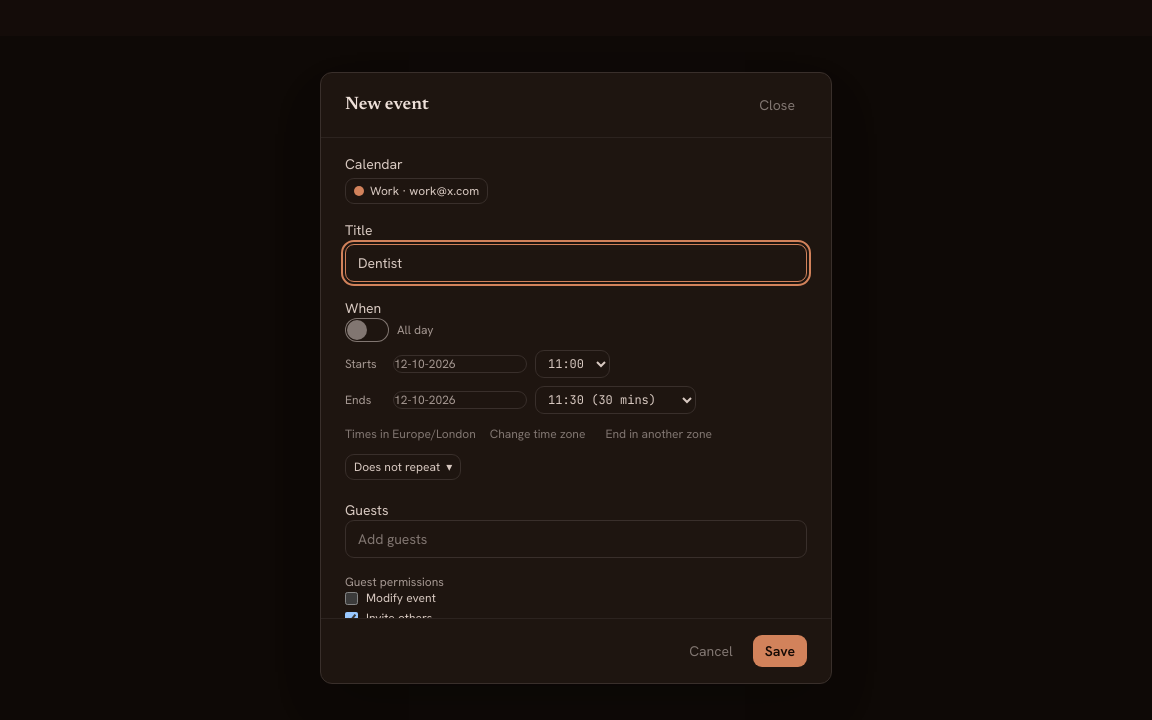
Test: NewEventEditor › More options from quick create keeps the title, time and calendar
Expected: the field labelled "Title" holds "Dentist", [345,244,807,282]
Expected: the dropdown named "Start time" shows "11:00", [535,350,610,378]
Click the button with aria-label "Calendar: Work" at (417, 191), box [345,178,488,204]
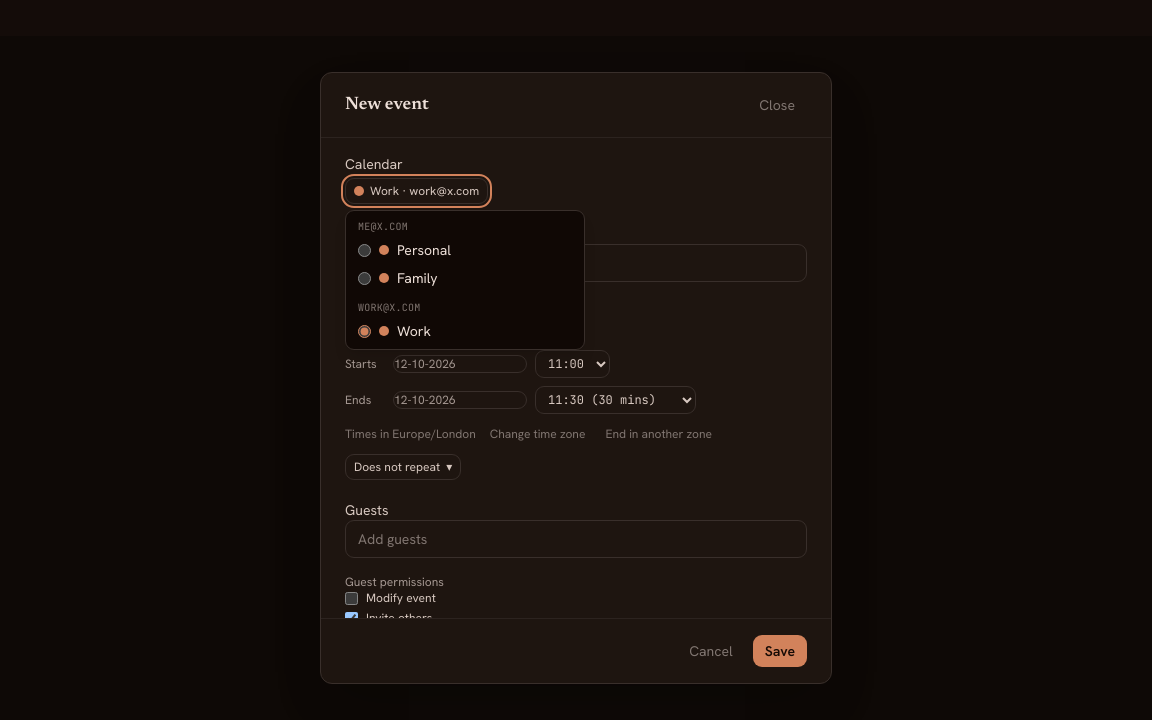
Click the radio button labelled "Personal" at (364, 250), box [358,244,371,256]
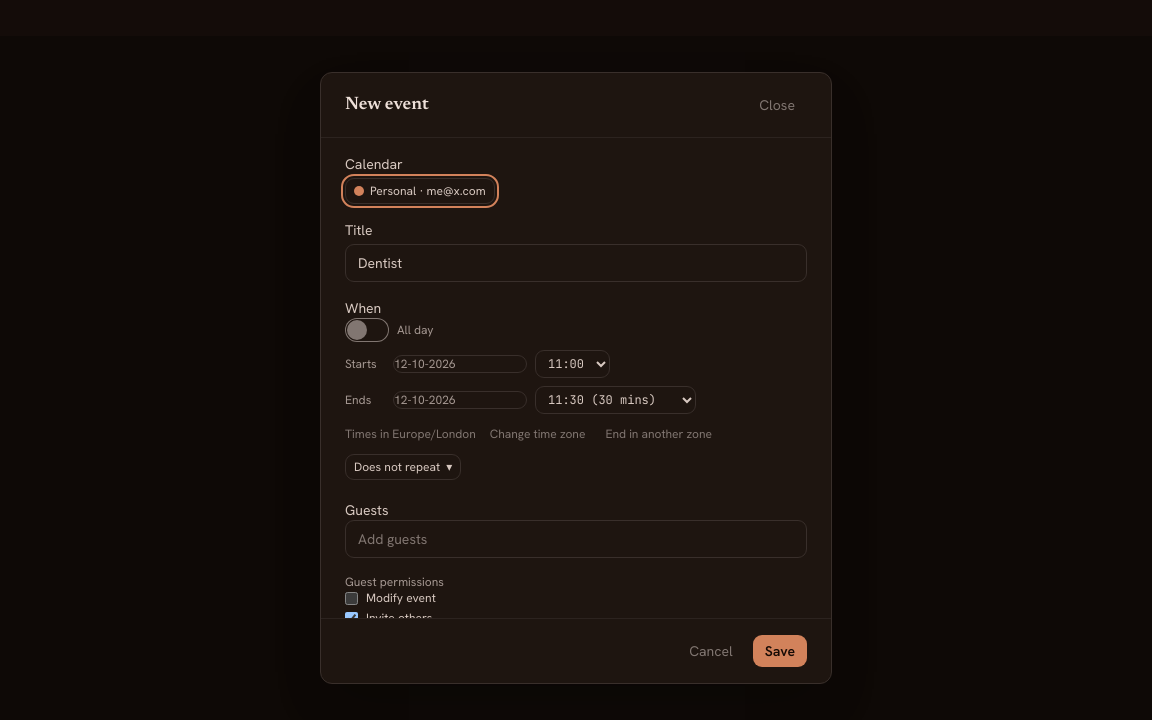
Expected: the dropdown named "End time" shows "11:30 (30 mins)", [535,386,696,414]
Press Escape
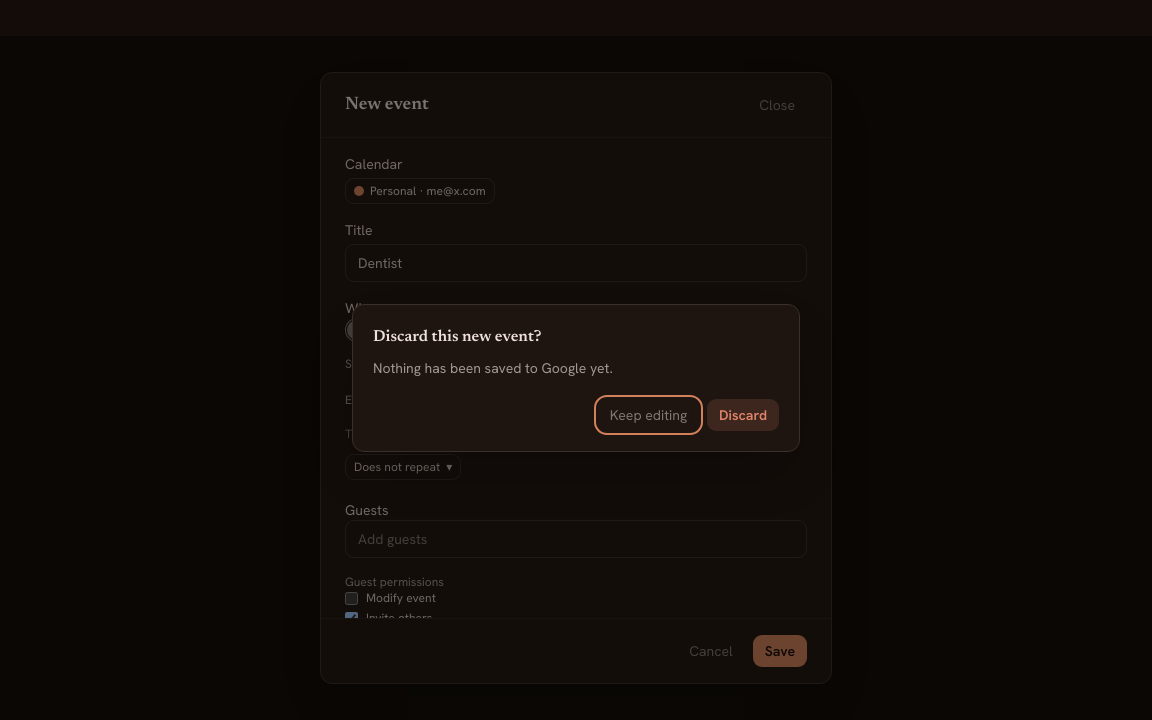
Now the heading "Discard this new event?" is shown, box [373,329,542,345]
